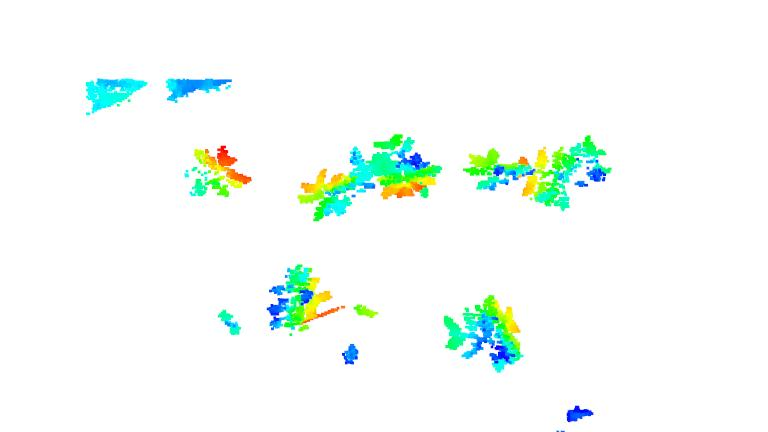chickpea: (519, 134, 619, 208), (441, 293, 527, 373), (354, 133, 442, 198), (297, 148, 370, 223), (264, 260, 334, 336), (184, 145, 253, 202), (462, 147, 519, 191)
